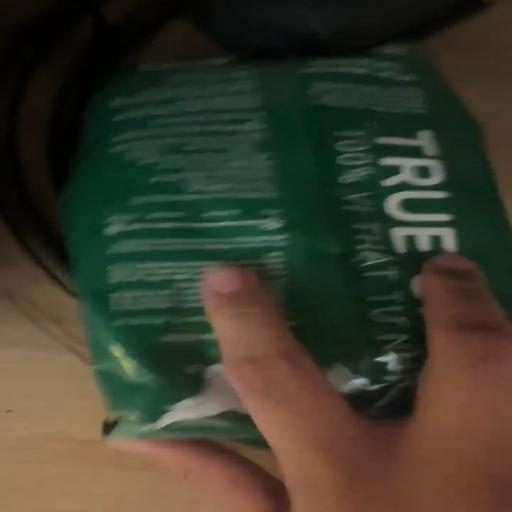cafe_xay: (61, 45, 511, 444)
